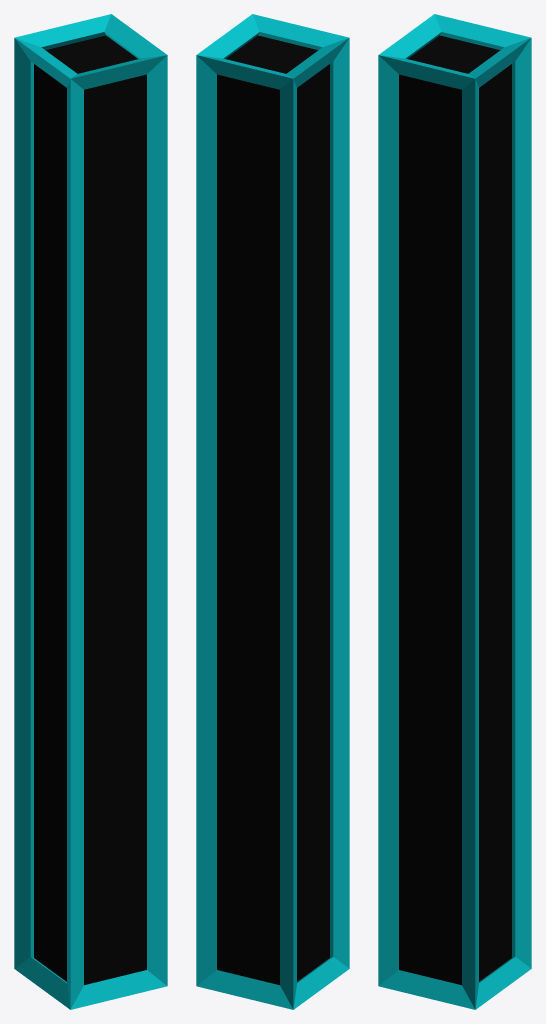
The model's file is Paddle.obj.
3 renders of one model, left to right at view 1: azimuth 30°, elevation 25°; view 2: azimuth 150°, elevation 25°; view 3: azimuth 330°, elevation 25°, orthographic.
Parts seen in each view (by area): view 1: Paddle.001; view 2: Paddle.001; view 3: Paddle.001.
Part boxes in pixels (<box>): Paddle.001: <box>14,14,167,1009</box>; Paddle.001: <box>196,14,349,1009</box>; Paddle.001: <box>378,14,531,1009</box>.
Size of the model in its own units: 0.269 by 2.47 by 0.2693.
